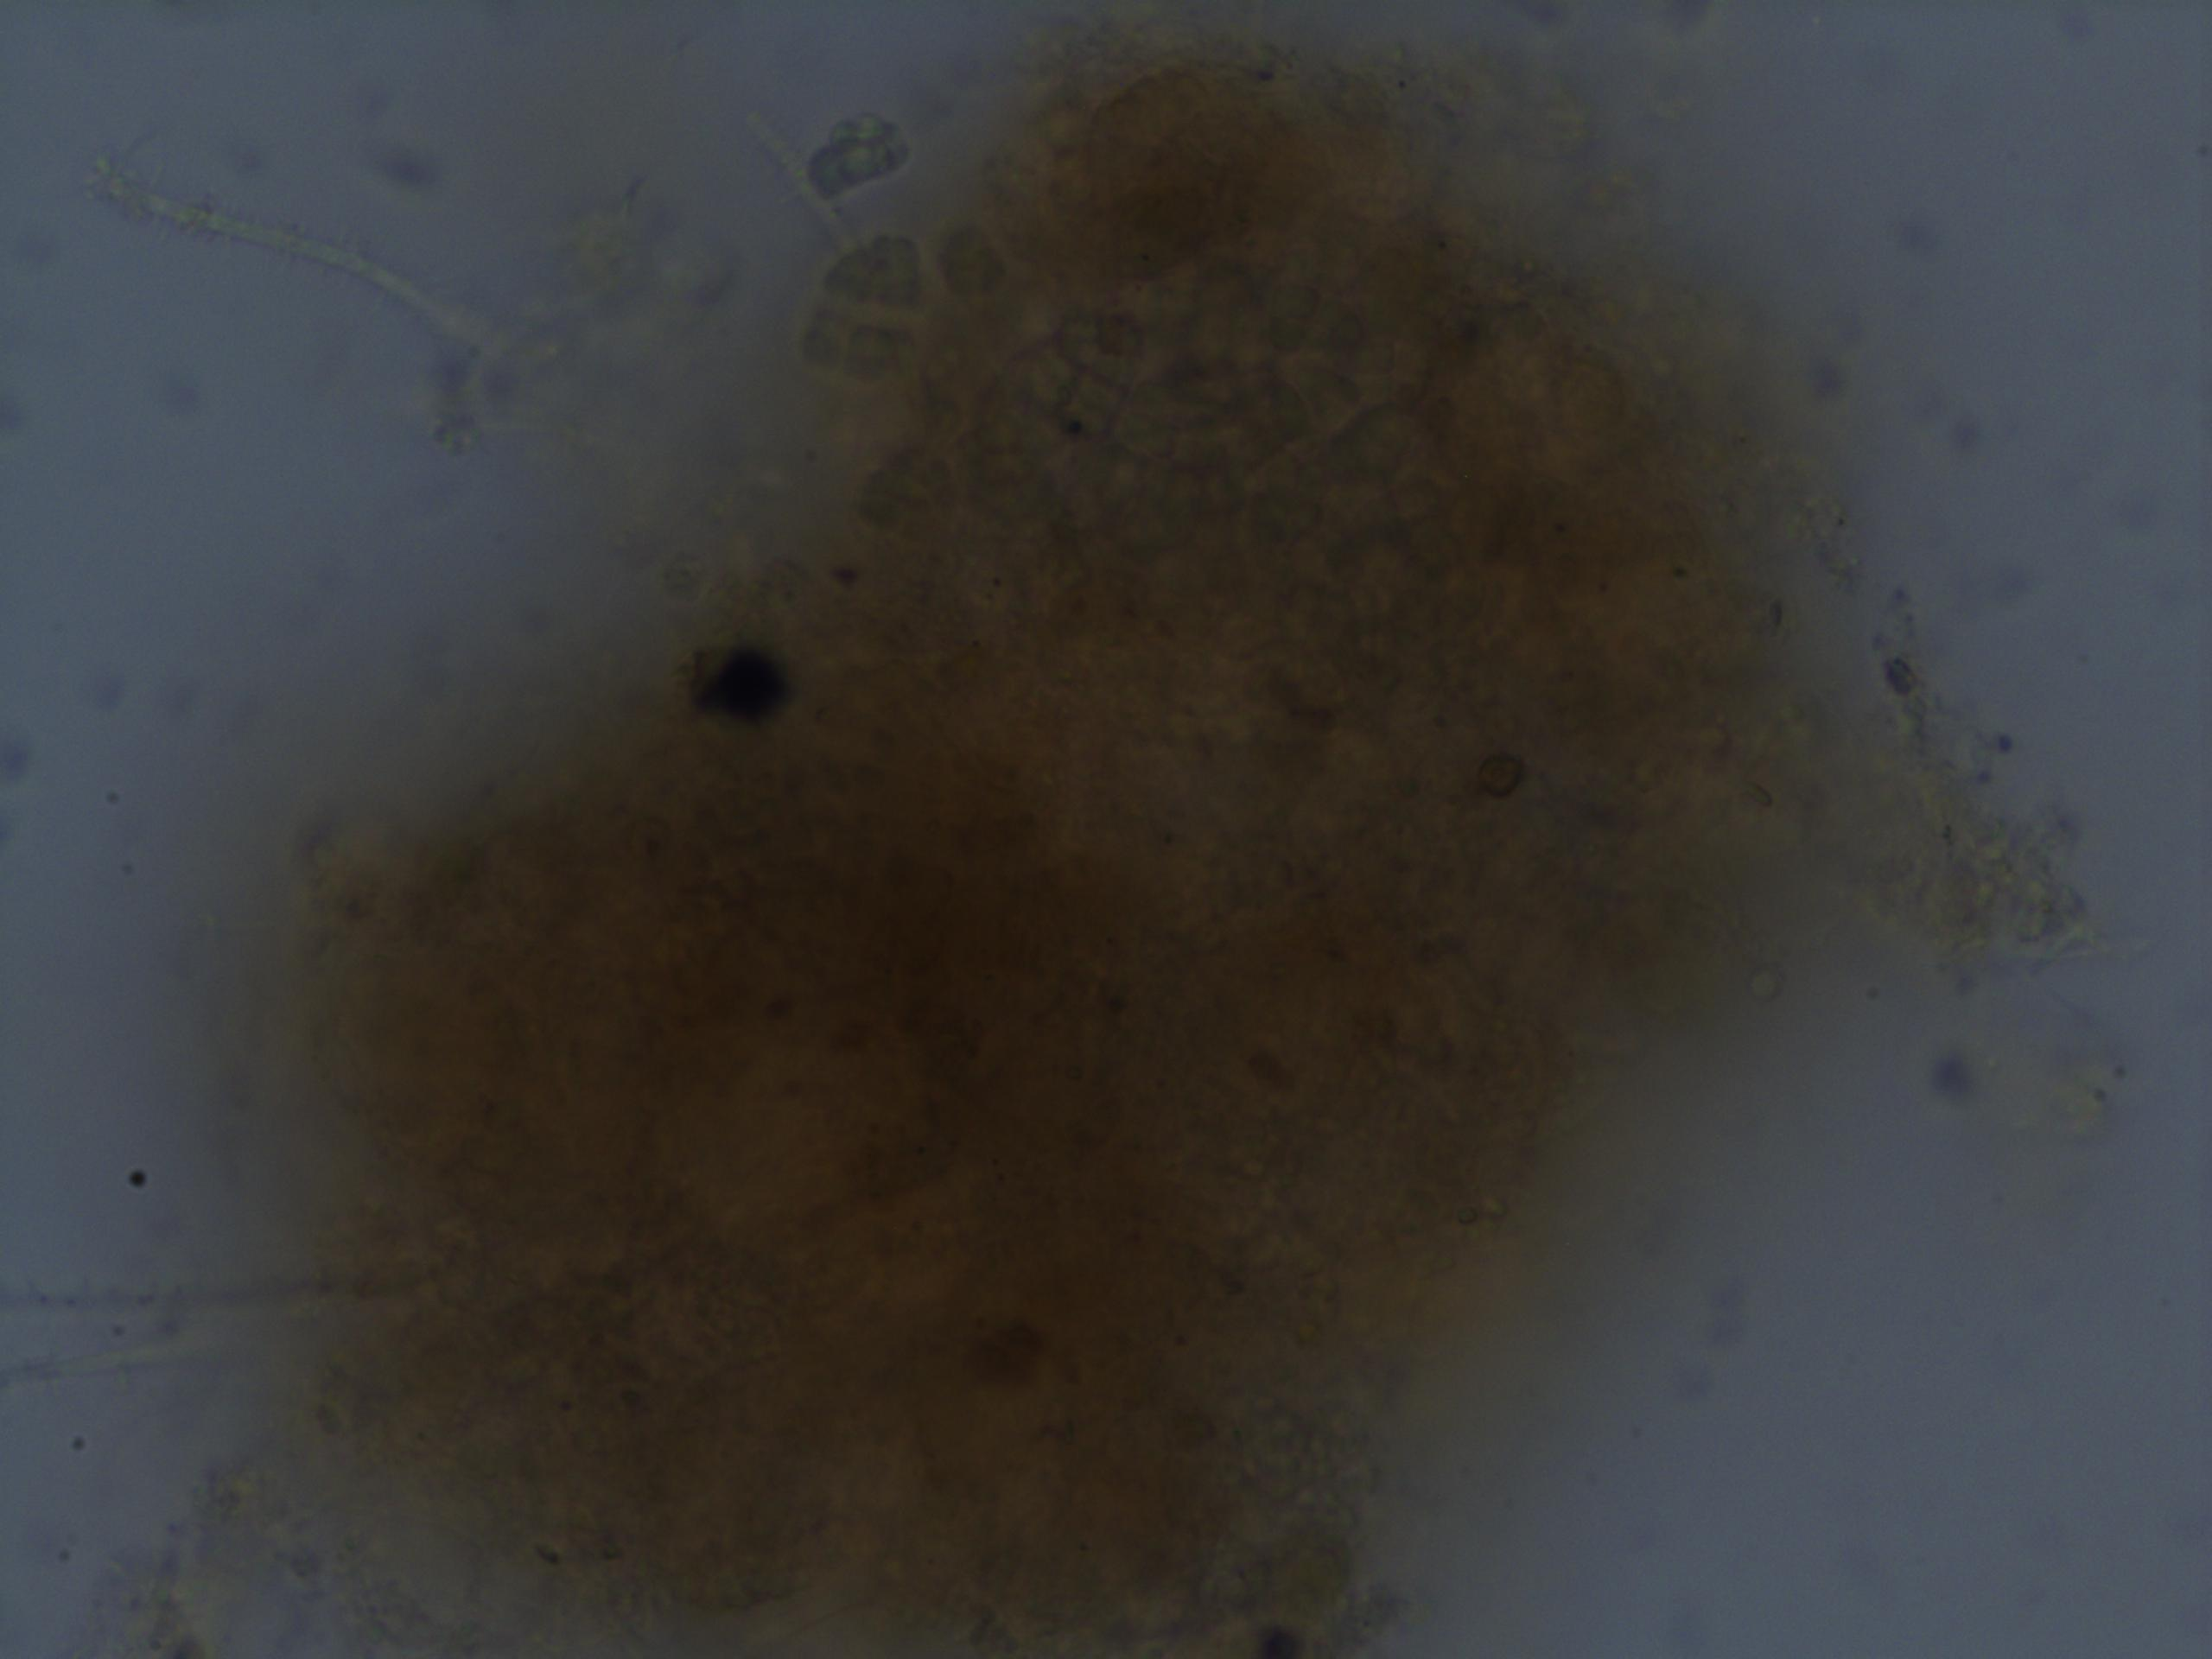filament: (82, 146, 636, 448), (0, 1265, 470, 1384)
spherical_floc: (249, 0, 1857, 1638)
